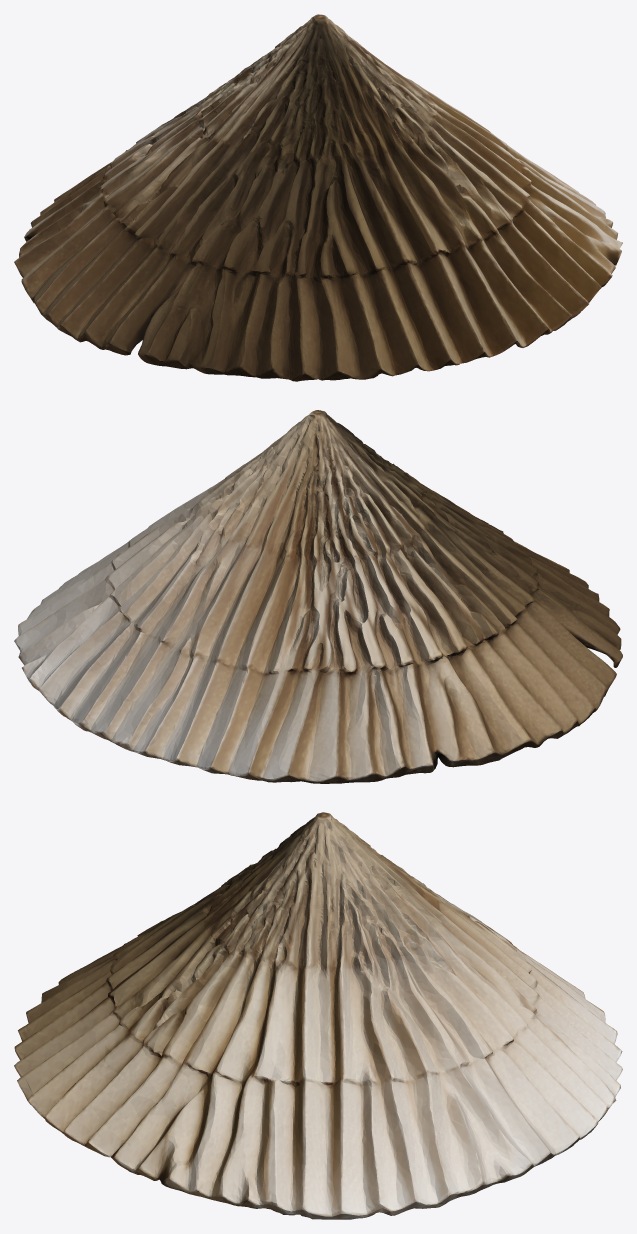
The model's file is kasa_hat.glb.
3 renders of one model, top to bottom at view 1: azimuth 30°, elevation 25°; view 2: azimuth 150°, elevation 25°; view 3: azimuth 270°, elevation 25°, orthographic. The views are drawn at different scales.
Visible parts, largest first — view 1: geometry_0; view 2: geometry_0; view 3: geometry_0.
Boxes of the visible parts, x1,y1,x2,y2 form: geometry_0: [14, 14, 622, 381]; geometry_0: [14, 410, 622, 783]; geometry_0: [14, 812, 622, 1219].
Size of the model in its own units: 0.9989 by 0.4942 by 0.9379.
1 material, 1 textured.
